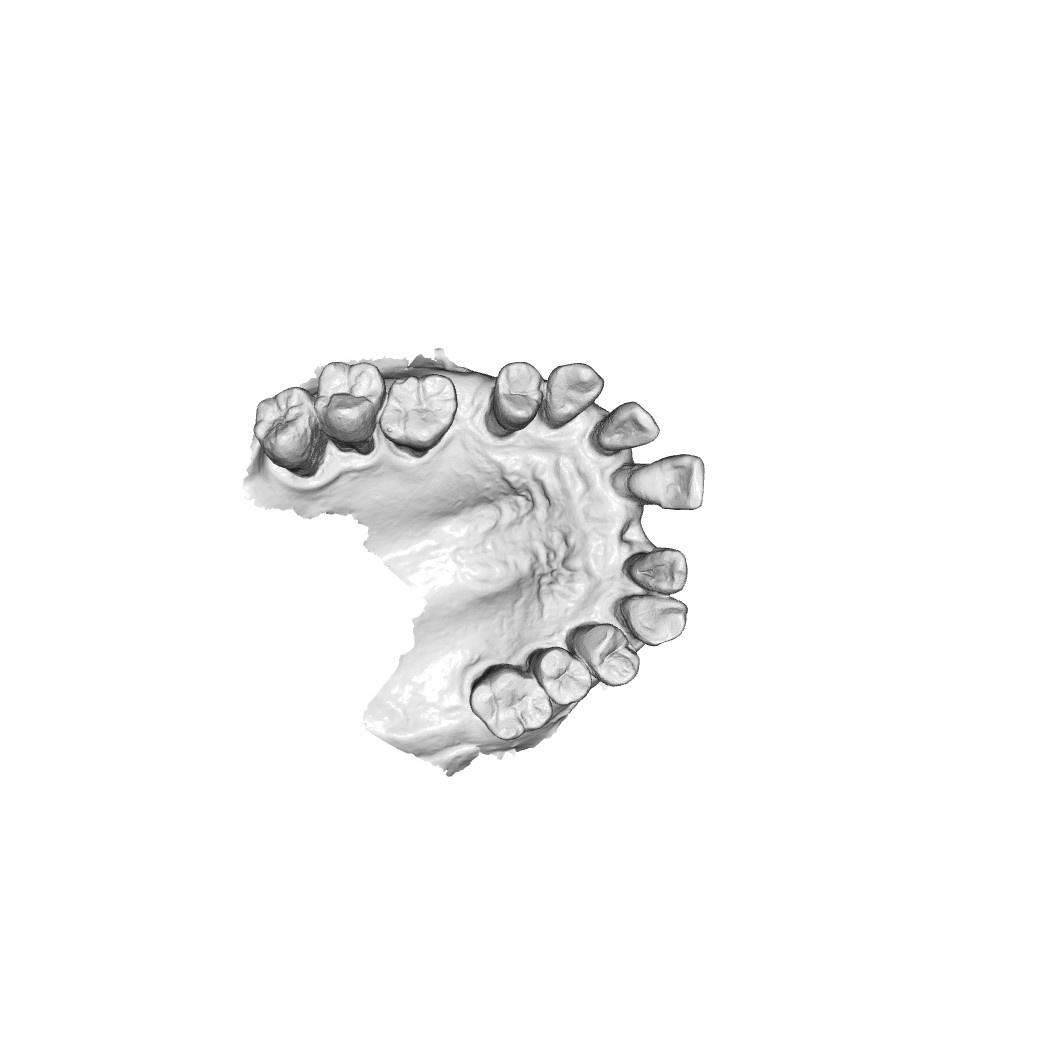canine: (541, 358, 603, 433), (622, 594, 687, 646)
incisor: (623, 454, 712, 511), (596, 397, 661, 458), (623, 549, 685, 593)
molar: (379, 373, 459, 451), (252, 388, 322, 470), (316, 355, 382, 440), (475, 665, 547, 738)
premolar: (488, 359, 544, 431), (583, 620, 640, 690), (537, 647, 590, 708)
